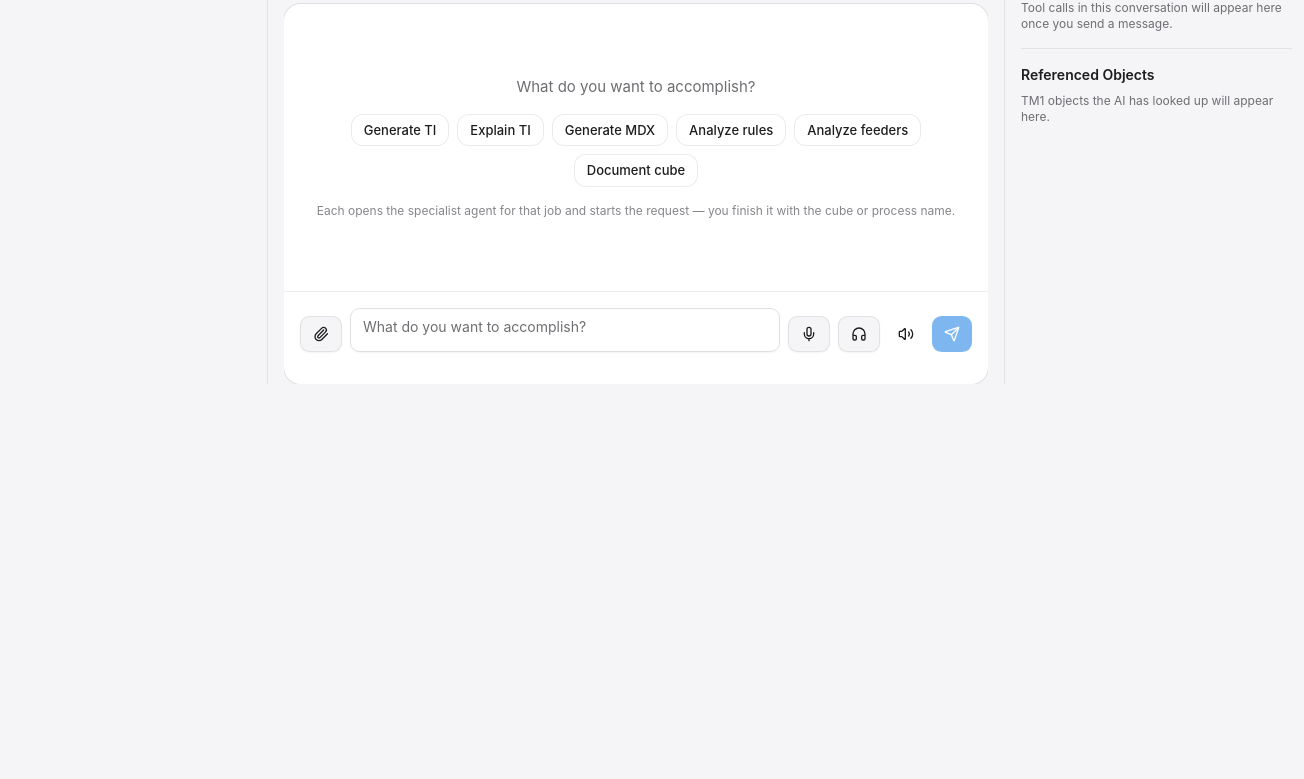
charts in chat › draws the chart the analyst showed under its answer
Type "show revenue by month" into the text box with placeholder "What do you want to accomplish?" at (565, 330), box [350,308,780,352]
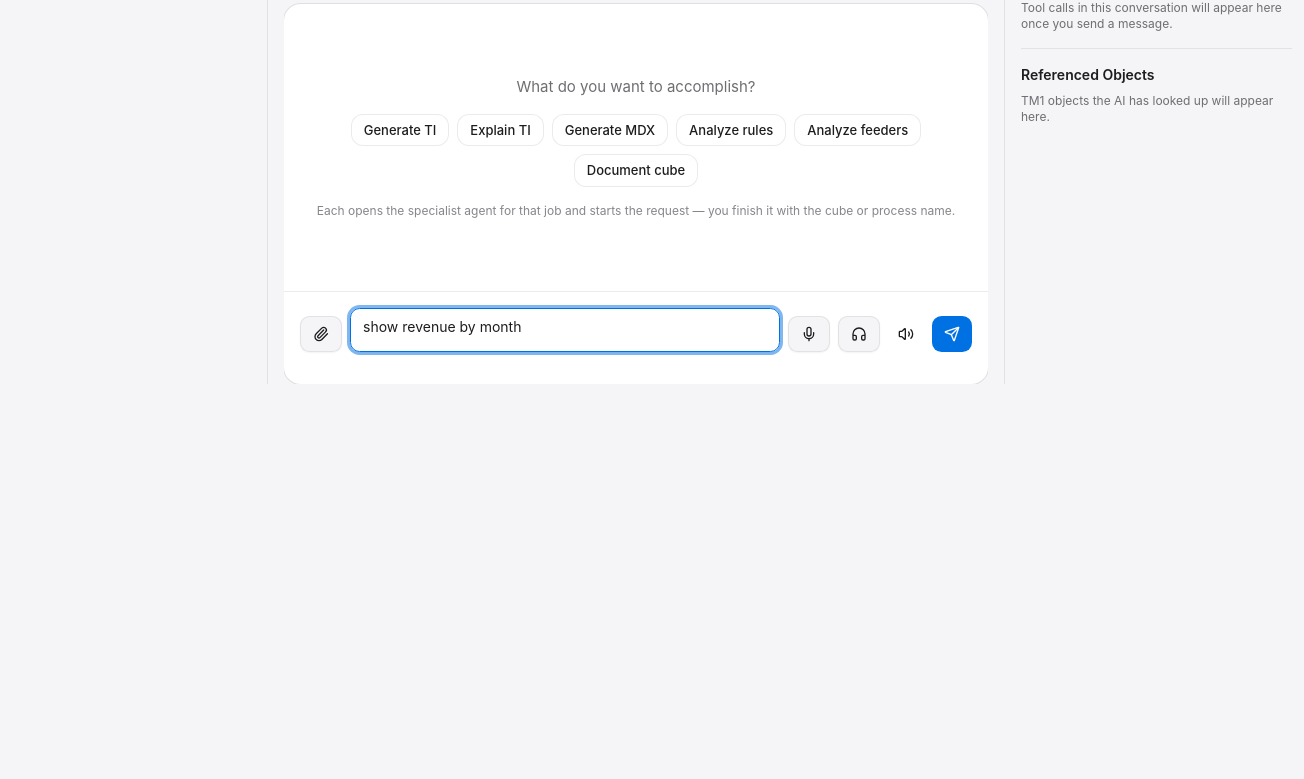
Press Enter
(page scrolled)
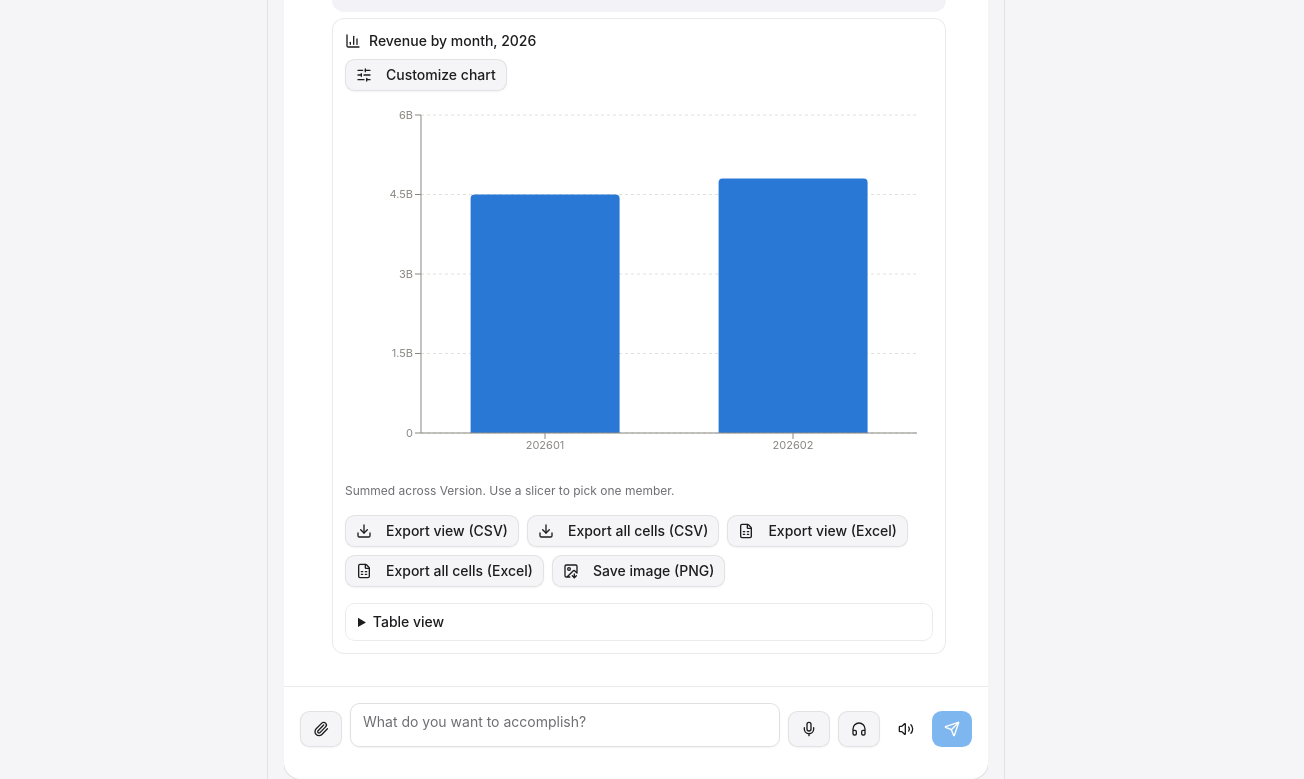
Expected: the element with test id "chat-chart" shows "Revenue by month, 2026", [369,32,536,49]
Expected: the element with test id "viz-builder" is shown, [345,59,933,641]
